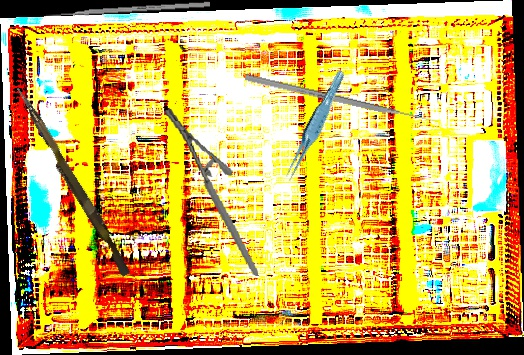Needle Holder: (163, 97, 259, 287)
Pusher: (8, 85, 136, 278), (244, 73, 439, 126), (39, 1, 211, 19)
Tissue Forceps: (274, 69, 354, 185)
